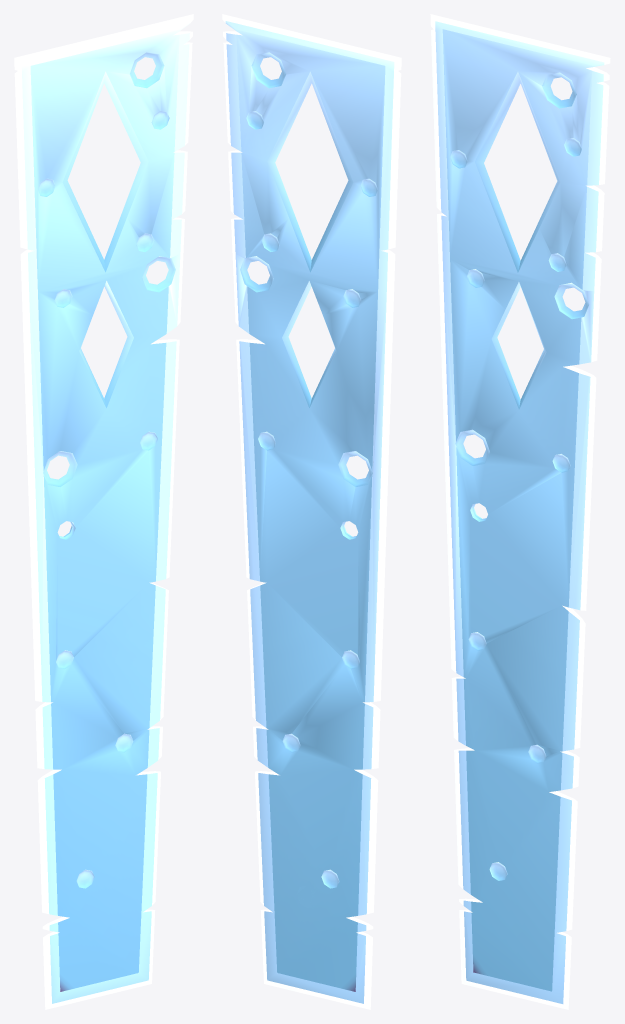
Rendered from steel_blade_bubbles_061.glb.
3 views of the same model, side by side, from view 1: azimuth 30°, elevation 25°; view 2: azimuth 150°, elevation 25°; view 3: azimuth 330°, elevation 25° (orthographic).
Visible parts, largest first — view 1: steel_blade_bubbles.061; view 2: steel_blade_bubbles.061; view 3: steel_blade_bubbles.061.
Boxes of the visible parts, x1=… form: steel_blade_bubbles.061: x1=14, y1=14, x2=193, y2=1009; steel_blade_bubbles.061: x1=222, y1=14, x2=401, y2=1009; steel_blade_bubbles.061: x1=430, y1=14, x2=610, y2=1009.
Bounding box in the file's own units: 2.19 × 11.21 × 0.0882.
1 material, 1 textured.
